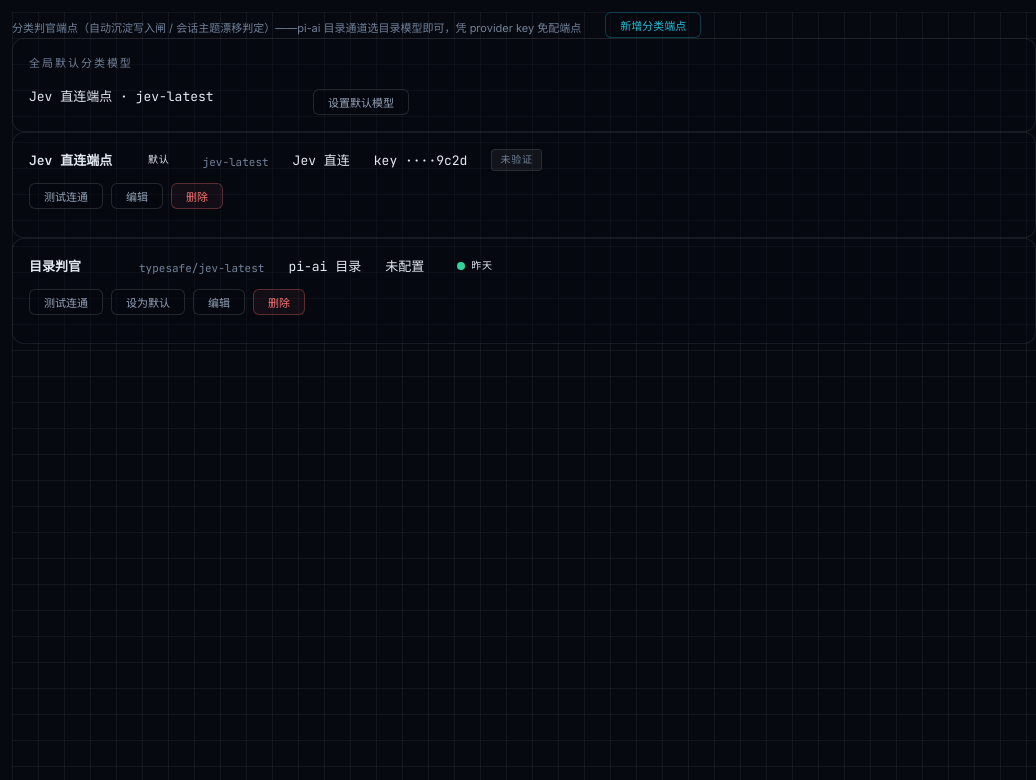
Test: D1 全局默认分类模型（渐进收编 UI 契约） › set_default 被 daemon 拒 → 行内交代原因 + 面板不关（尾缀归因：他命令拒绝不误消费）
The image size is (1036, 780).
Click the button "设置默认模型". click: coordinates (361, 102)
box: [313,89,409,115]
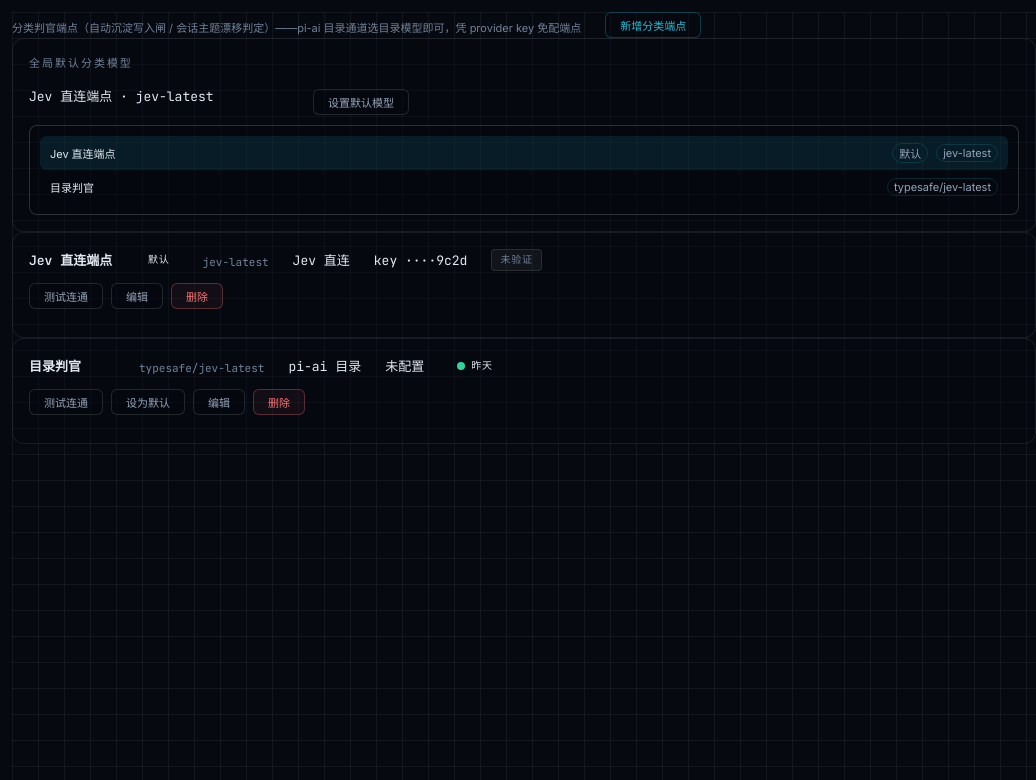
Click the button "目录判官 typesafe/jev-latest". click: coordinates (72, 188)
box: [40,170,1008,204]
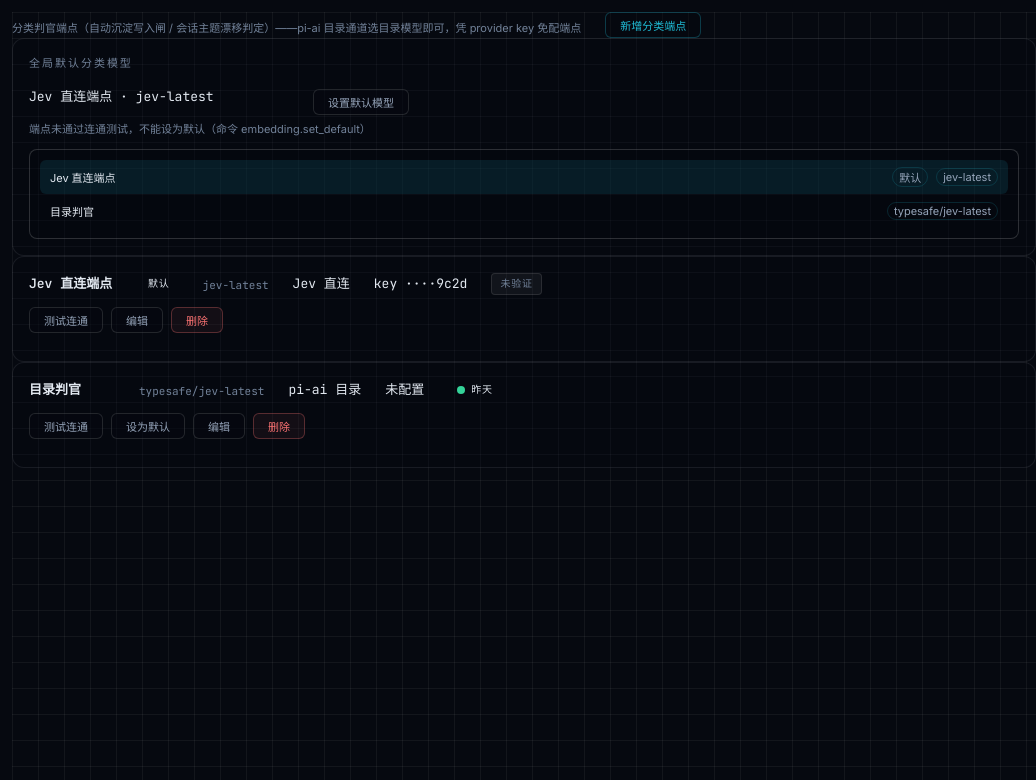
Now the element showing "Jev 直连端点 默认 jev-latest 目录判官 typesafe/jev-latest" is shown, box [29,149,1019,239]
Now the message "端点未通过连通测试，不能设为默认（命令 embedding.set_default）" is shown, box [29,122,371,136]
